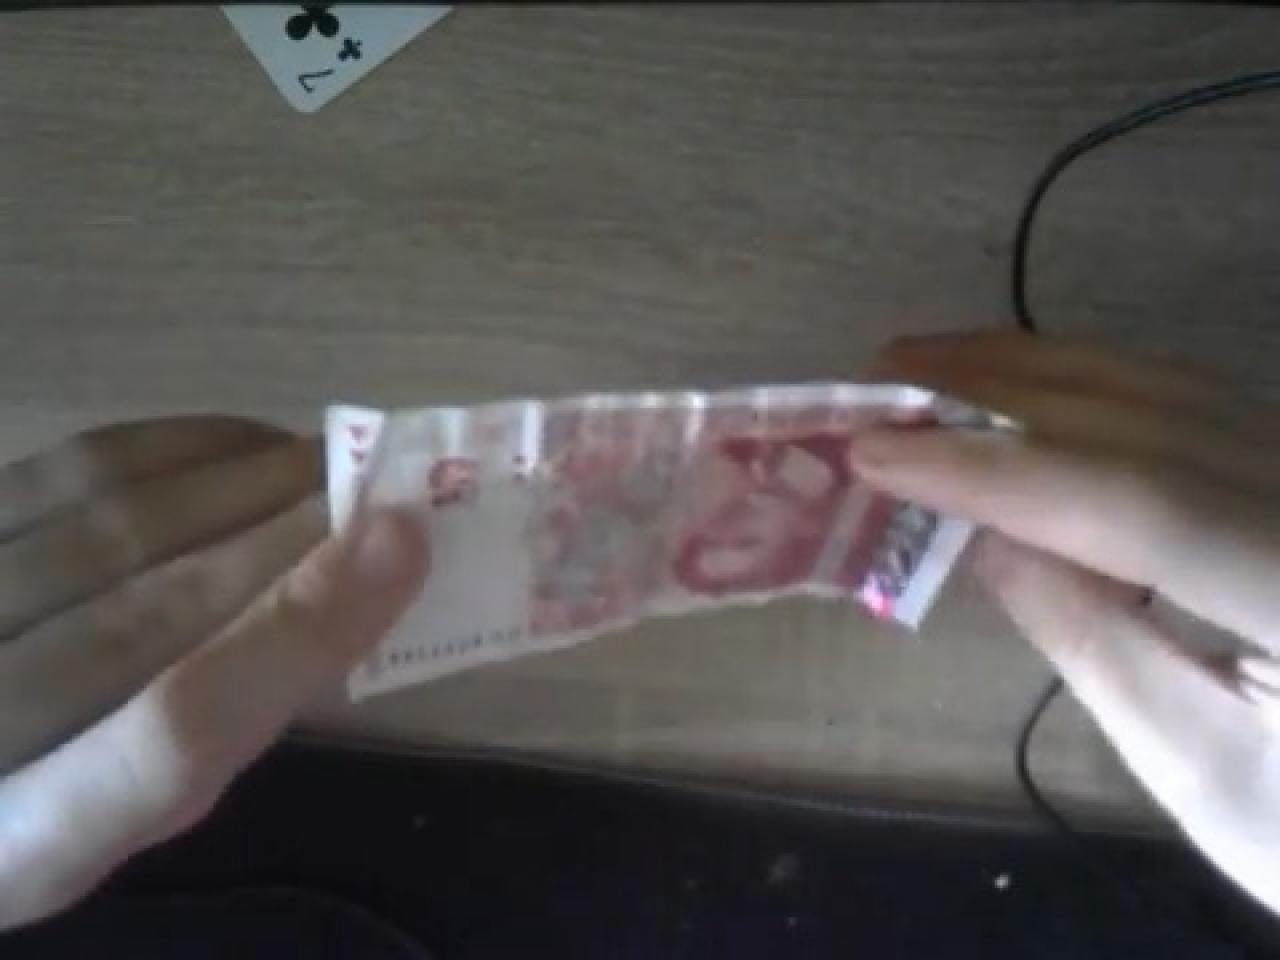5leva: (350, 400, 909, 696)
